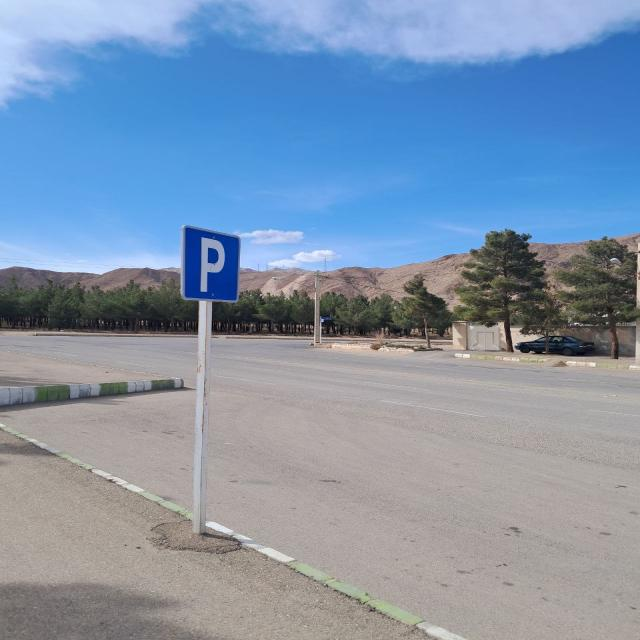parking lot: (189, 230, 240, 302)
